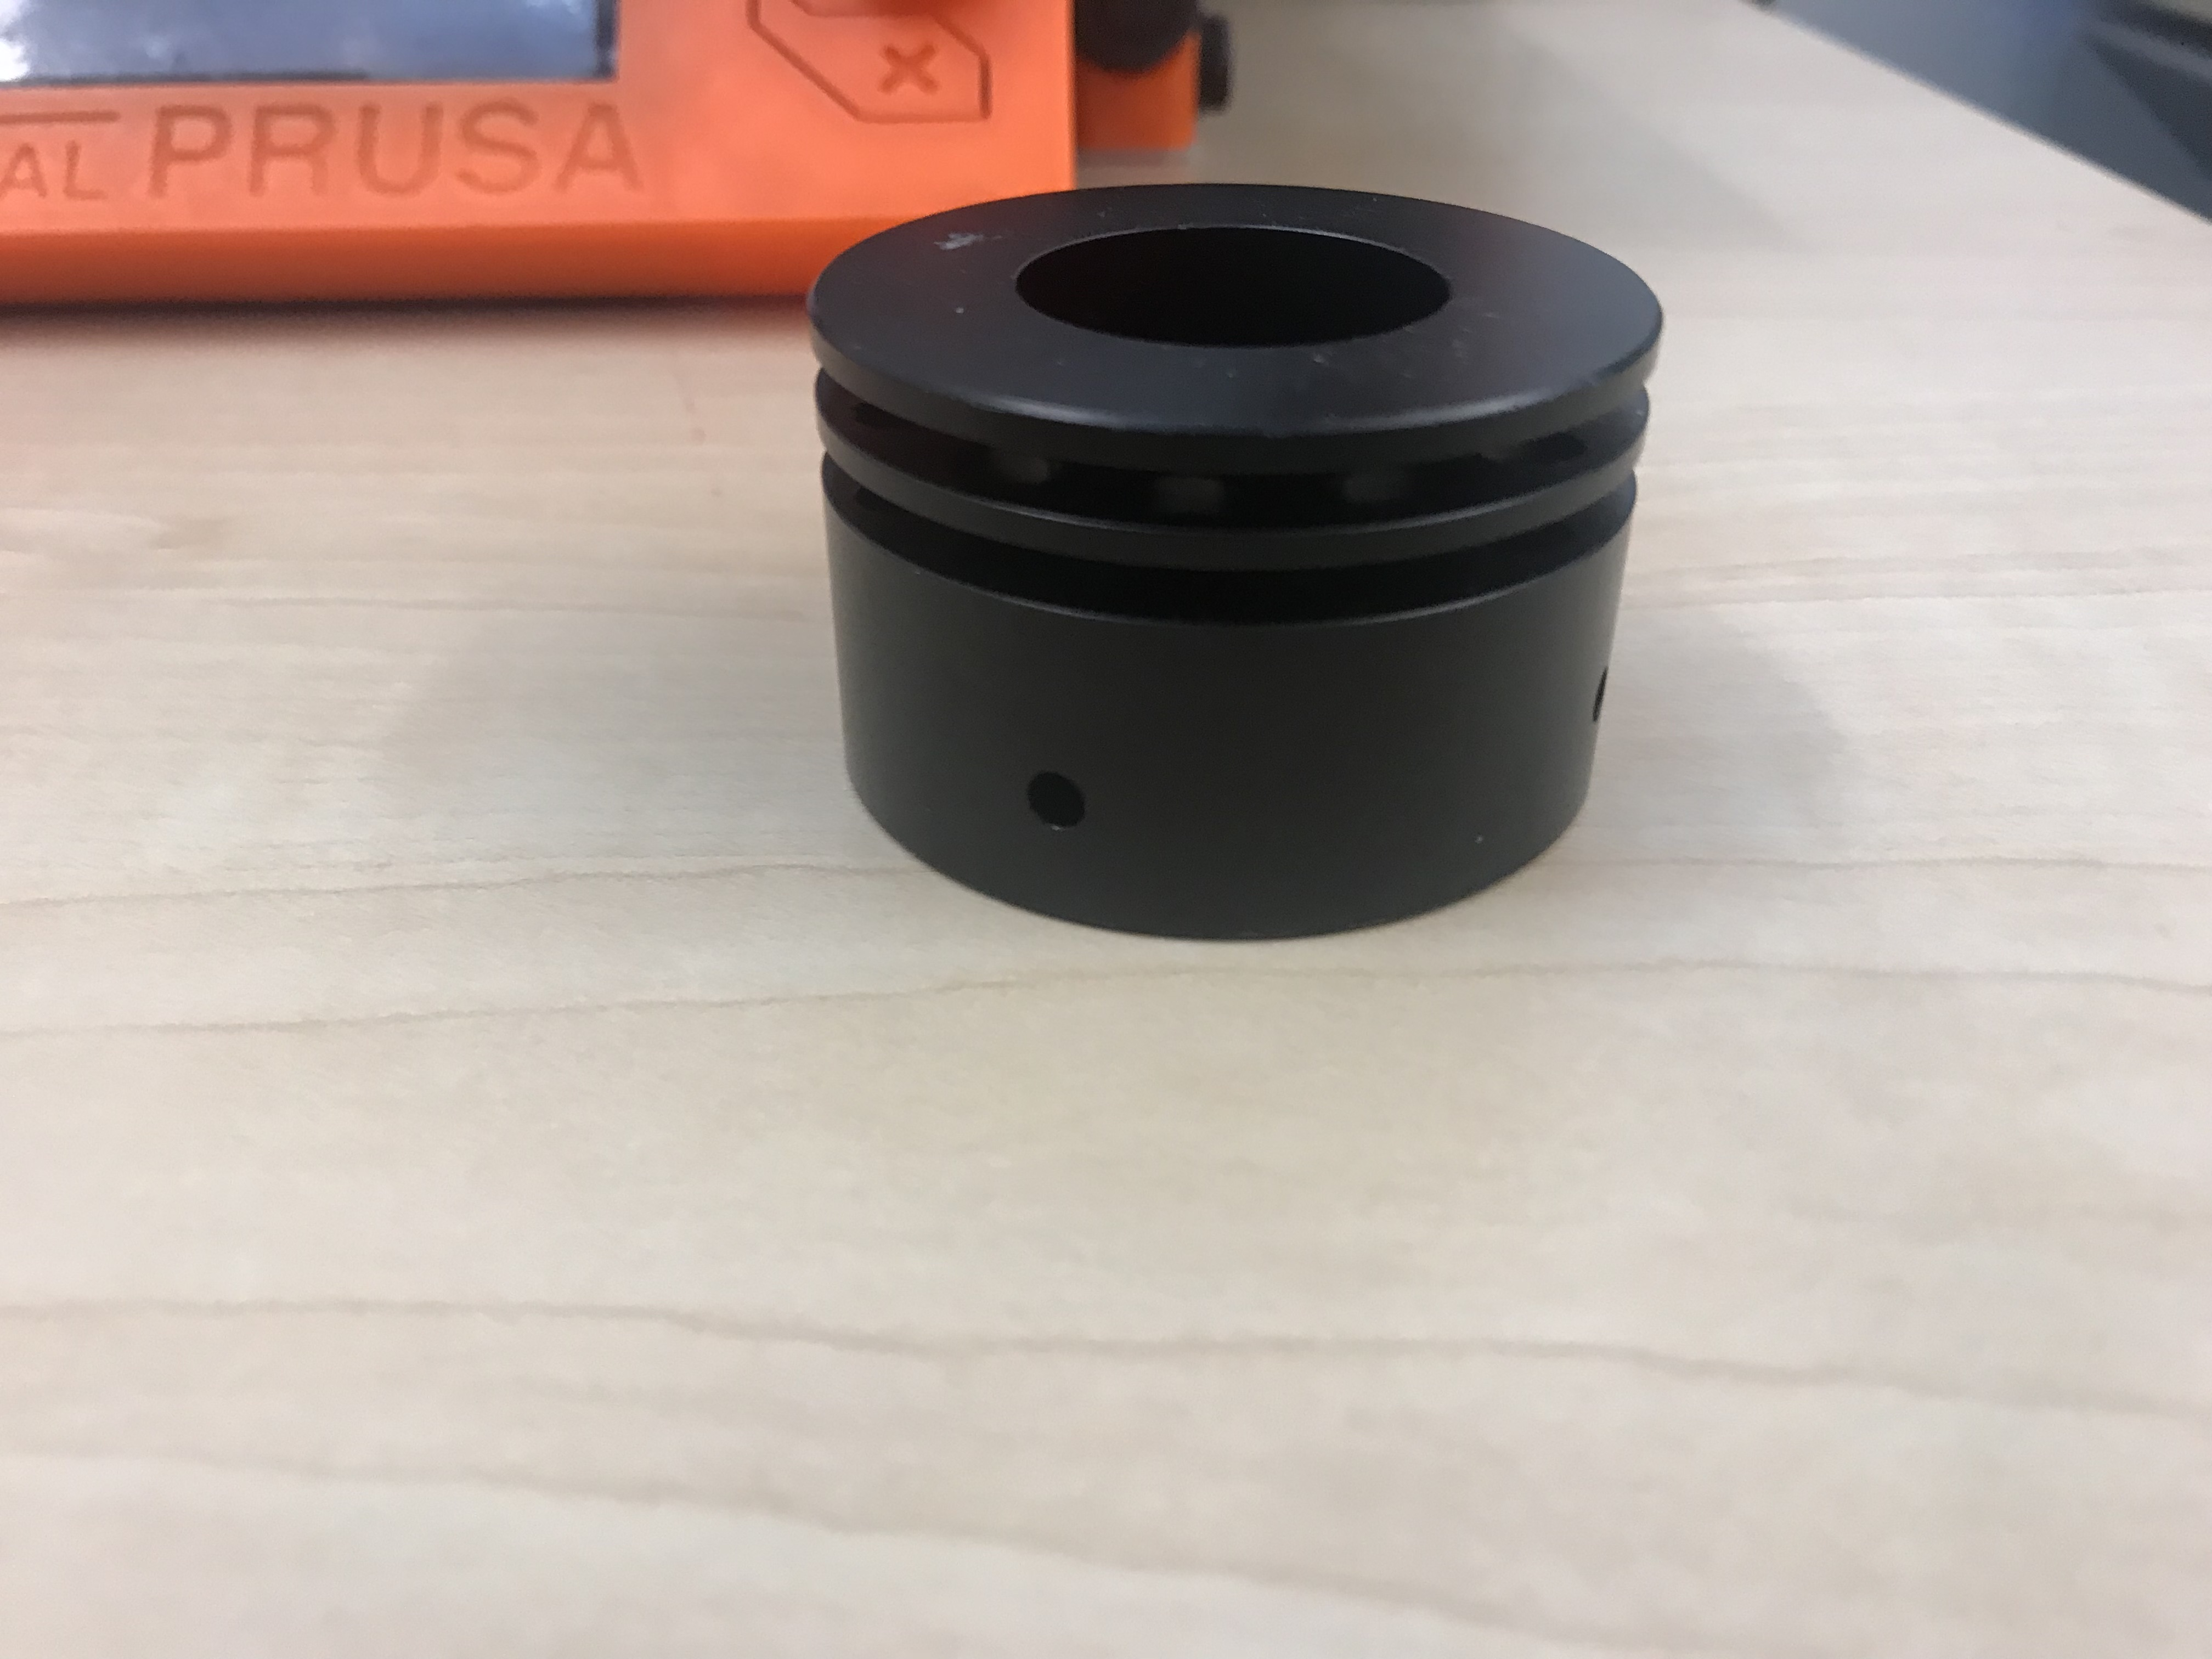pillar1: (796, 178, 1688, 962)
